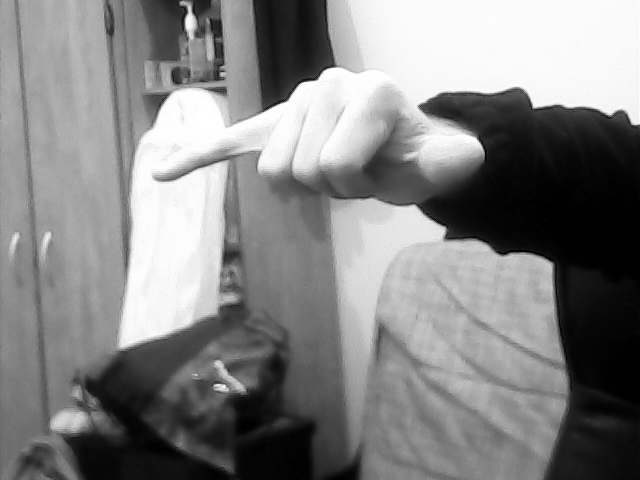aloha: (134, 61, 495, 217)
